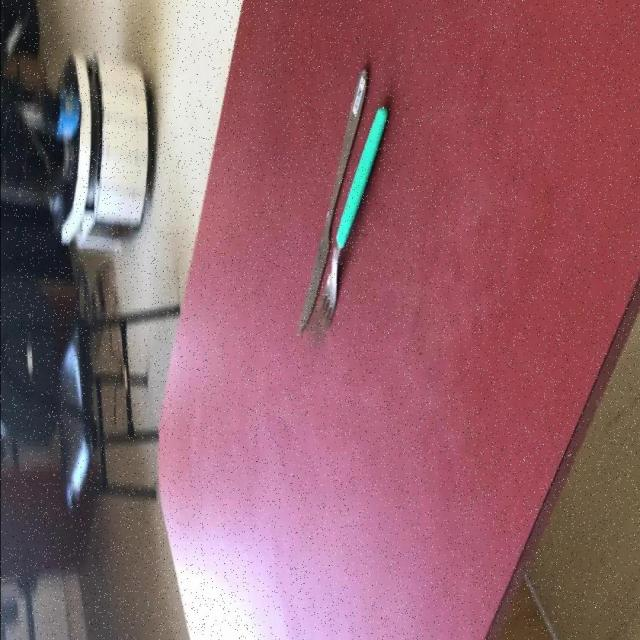Fork: (321, 104, 391, 328)
Knife: (297, 67, 370, 335)
